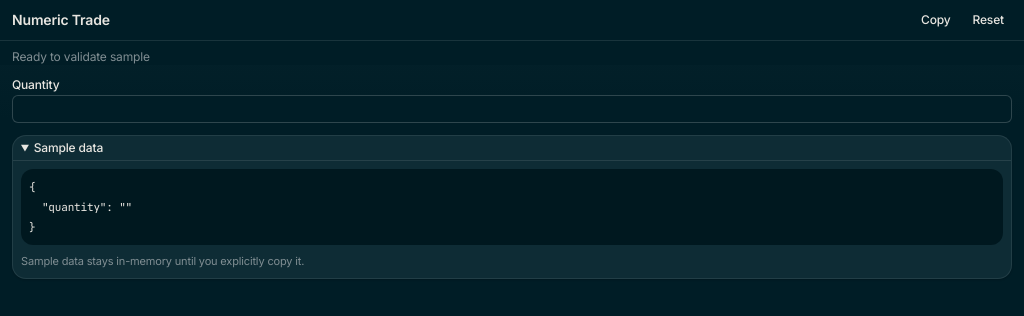
Test: FormPreviewPanel › shows pending validation until the worker answers for the latest edit
The image size is (1024, 316).
In the number field labelled "Quantity": point(512, 109) [12,95,1012,123], type "1.5"
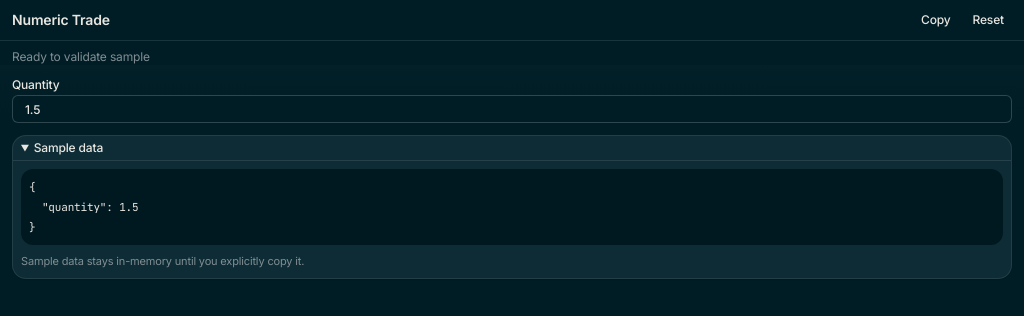
Leave the number field labelled "Quantity", box [12,95,1012,123]
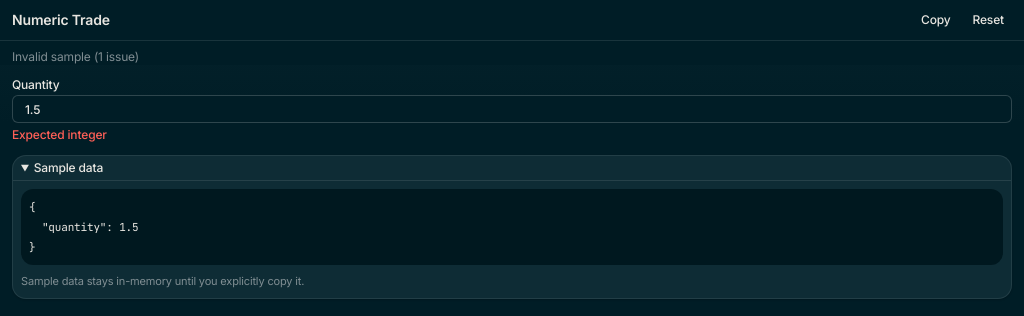
Expected: the text "Invalid sample (1 issue)" is shown, [12,49,139,64]
Replace the text in the number field labelled "Quantity" with "2": point(512, 109) [12,95,1012,123]
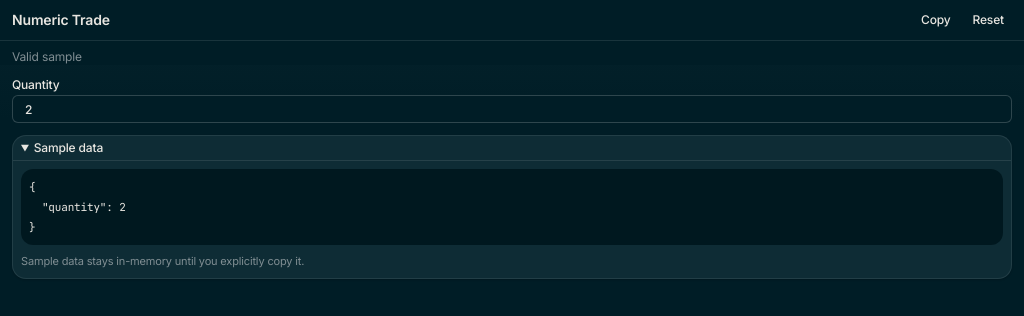
Expected: the text "Valid sample" is shown, [12,49,82,64]
Expected: the text "Expected integer" is gone
